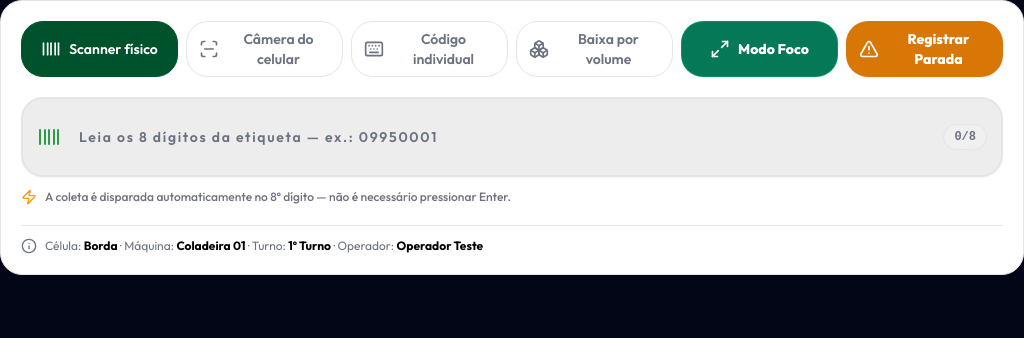
TraceabilityScannerPanel — captura rápida de 8 dígitos › bloqueia numeração maior que 8 dígitos em vez de truncar silenciosamente
The width and height of the screenshot is (1024, 338).
Step 1. Type "099500011" into the field named "Identificação produtiva" → (512, 137), box [21,97,1003,177]
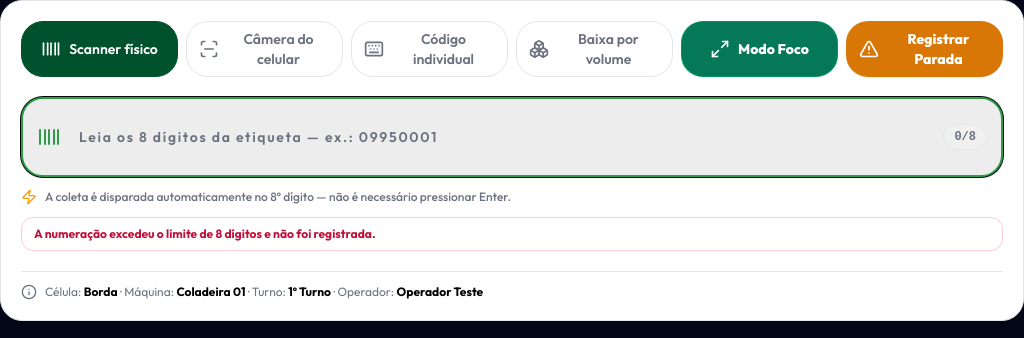
Result: the message shows "excedeu o limite de 8 dígitos" at [34,226,376,241]
